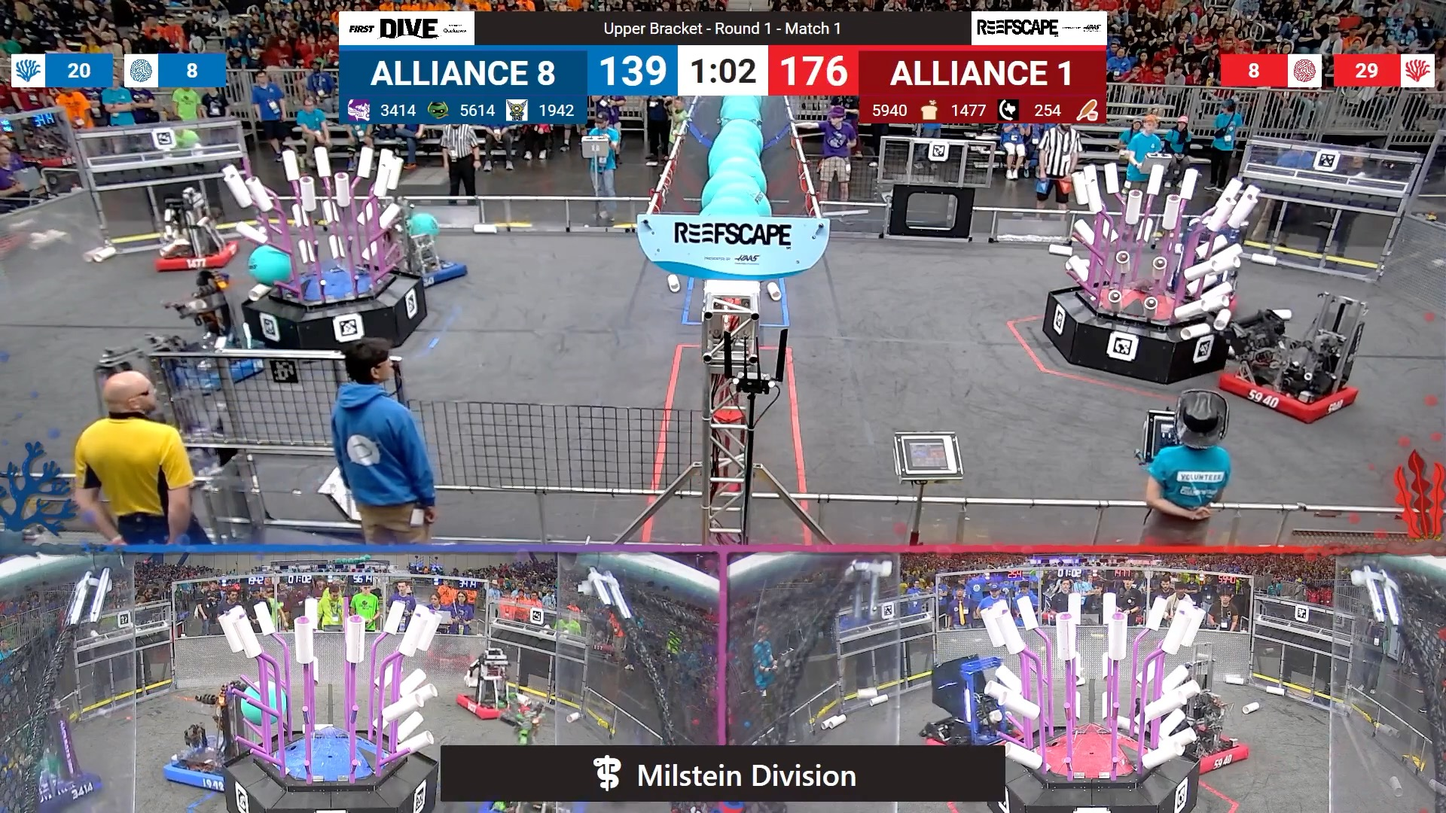bumpers: (1203, 356, 1368, 428), (150, 339, 269, 393), (155, 740, 241, 790), (1174, 729, 1256, 778), (147, 243, 243, 276), (386, 254, 474, 288), (449, 691, 538, 724)
